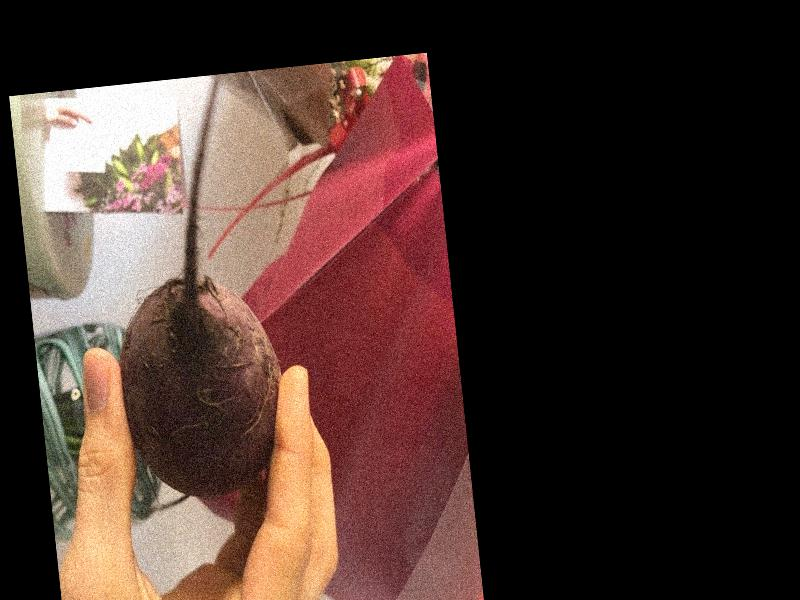Beet: (90, 70, 293, 510)
